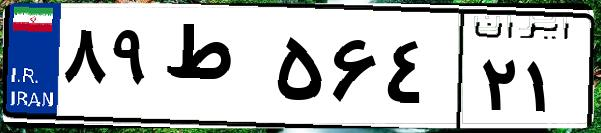1: (525, 38, 570, 115)
2: (475, 38, 525, 113)
4: (385, 28, 445, 110)
5: (270, 28, 330, 110)
6: (330, 28, 385, 110)
8: (57, 26, 110, 100)
9: (110, 28, 158, 98)
ط: (158, 20, 270, 120)
